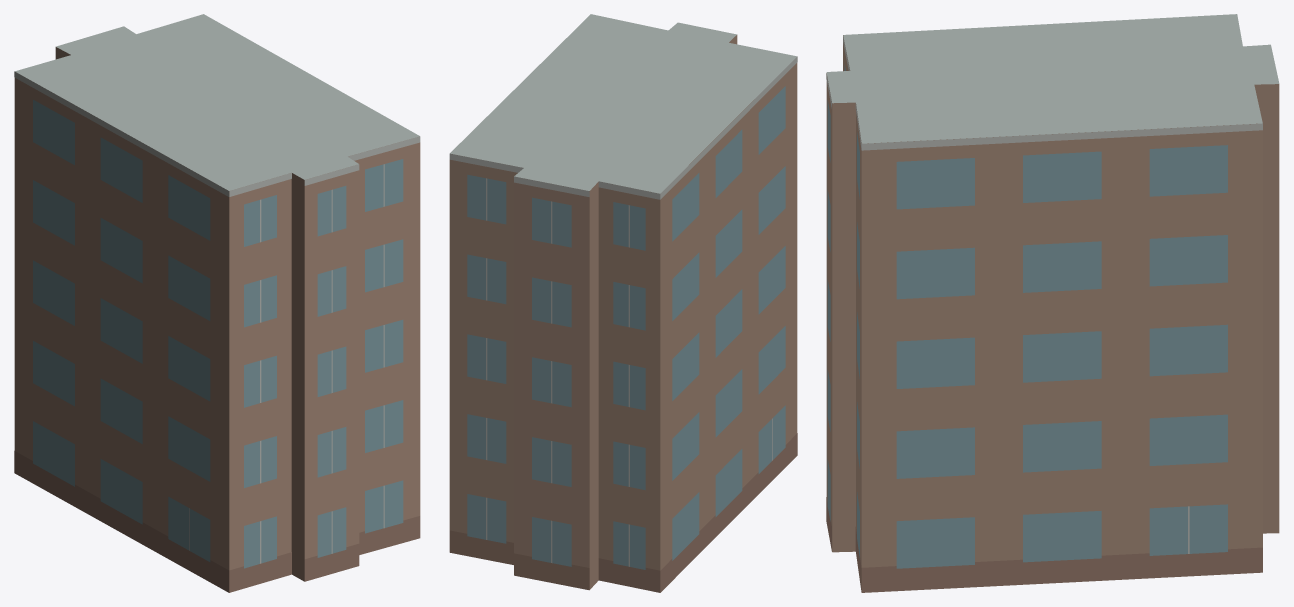
File: survey-upis-32736699.glb
The picture shows the model from 3 angles, left to right: view 1: azimuth 30°, elevation 25°; view 2: azimuth 150°, elevation 25°; view 3: azimuth 270°, elevation 25°; orthographic projection. The views are drawn at different scales.
Visible parts, largest first — view 1: survey-upis-32736699.tmp; view 2: survey-upis-32736699.tmp; view 3: survey-upis-32736699.tmp.
Part boxes in pixels (x1,y1,x2,y2): survey-upis-32736699.tmp: (14,14,420,592); survey-upis-32736699.tmp: (449,14,797,592); survey-upis-32736699.tmp: (826,14,1279,592).
Size of the model in its own units: 9.92 by 16 by 14.64.
